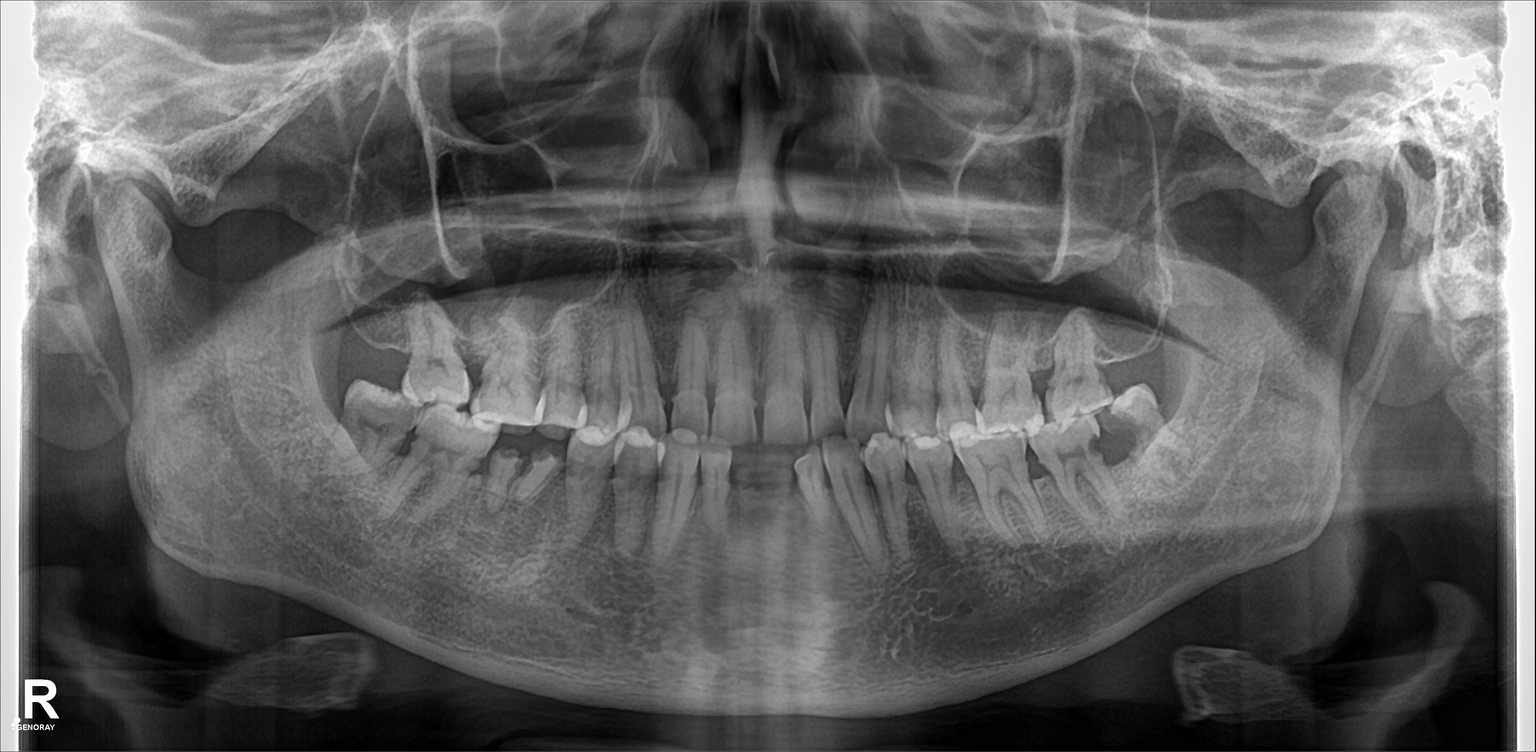Dental Caries: (1086, 423, 1141, 463), (1017, 359, 1061, 404)
Impacted Third Molar: (1099, 385, 1190, 486)
Missing Tooth: (732, 450, 793, 529), (1097, 307, 1159, 383), (345, 303, 404, 380)
